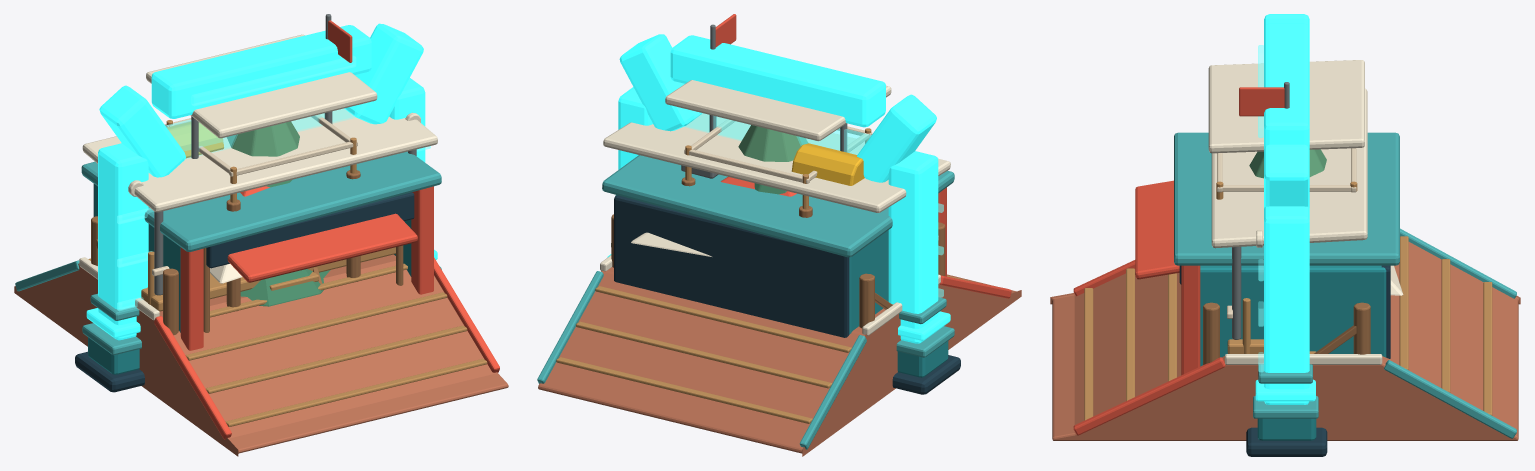
File: canyon-kit.glb
The picture shows the model from 3 angles, left to right: view 1: azimuth 30°, elevation 25°; view 2: azimuth 150°, elevation 25°; view 3: azimuth 270°, elevation 25°; orthographic projection. The views are drawn at different scales.
Visible parts, largest first — view 1: Ramp_DirtBody, Gate_Header, Workshop_Cabinet_1, Stand_Canopy, Workshop_Awning, Ramp_SurfaceSlat, Tower_Canopy, Gate_CoolingField, Workshop_BackWall, Ramp_L_TakeoffRail, Pine_NeedleTier_2, Pine_NeedleTier_1 (+16 smaller); view 2: Ramp_DirtBody, Gate_Header, Workshop_BackWall, Workshop_Cabinet_1, Stand_Canopy, Ramp_SurfaceSlat, Tower_Canopy, Ramp_L_LandingRail, Workshop_L_Wall, Workshop_RoofTank, Gate_CoolingField, Pine_NeedleTier_2 (+9 smaller); view 3: Ramp_DirtBody, Gate_Header, Workshop_Cabinet_1, Tower_Canopy, Workshop_L_Wall, Stand_Canopy, Ramp_SurfaceSlat, Workshop_Awning, Ramp_L_LandingRail, Ramp_L_TakeoffRail, Stand_CrossBrace, Gate_L_BaseTrim_0 (+10 smaller).
Boxes of the visible parts, bbox=[...] form: Ramp_DirtBody: bbox=[14, 254, 508, 456]; Gate_Header: bbox=[86, 23, 437, 340]; Workshop_Cabinet_1: bbox=[81, 151, 441, 251]; Stand_Canopy: bbox=[82, 108, 437, 212]; Workshop_Awning: bbox=[180, 186, 433, 350]; Ramp_SurfaceSlat: bbox=[88, 258, 487, 426]; Tower_Canopy: bbox=[146, 34, 377, 138]; Gate_CoolingField: bbox=[117, 56, 430, 311]; Workshop_BackWall: bbox=[93, 184, 414, 268]; Ramp_L_TakeoffRail: bbox=[154, 257, 499, 439]; Pine_NeedleTier_2: bbox=[227, 121, 299, 156]; Pine_NeedleTier_1: bbox=[240, 179, 330, 306]; Ramp_DirtBody: bbox=[538, 267, 1021, 456]; Gate_Header: bbox=[607, 34, 950, 343]; Workshop_BackWall: bbox=[614, 195, 849, 337]; Workshop_Cabinet_1: bbox=[602, 155, 954, 257]; Stand_Canopy: bbox=[603, 113, 950, 212]; Ramp_SurfaceSlat: bbox=[556, 275, 971, 423]; Tower_Canopy: bbox=[665, 80, 891, 141]; Ramp_L_LandingRail: bbox=[537, 271, 866, 449]; Workshop_L_Wall: bbox=[615, 195, 888, 334]; Workshop_RoofTank: bbox=[791, 143, 864, 185]; Gate_CoolingField: bbox=[684, 111, 943, 297]; Pine_NeedleTier_2: bbox=[738, 125, 808, 161]; Ramp_DirtBody: bbox=[1050, 242, 1520, 440]; Gate_Header: bbox=[1255, 14, 1315, 404]; Workshop_Cabinet_1: bbox=[1174, 132, 1399, 265]; Tower_Canopy: bbox=[1208, 60, 1364, 153]; Workshop_L_Wall: bbox=[1200, 265, 1386, 366]; Stand_Canopy: bbox=[1211, 88, 1367, 248]; Ramp_SurfaceSlat: bbox=[1084, 236, 1492, 420]; Workshop_Awning: bbox=[1135, 180, 1200, 375]; Ramp_L_LandingRail: bbox=[1384, 228, 1516, 438]; Ramp_L_TakeoffRail: bbox=[1073, 260, 1225, 435]; Stand_CrossBrace: bbox=[1203, 302, 1370, 364]; Gate_L_BaseTrim_0: bbox=[1253, 364, 1318, 418].
Bounding box in the file's own units: 7.35 × 6.52 × 8.42.
